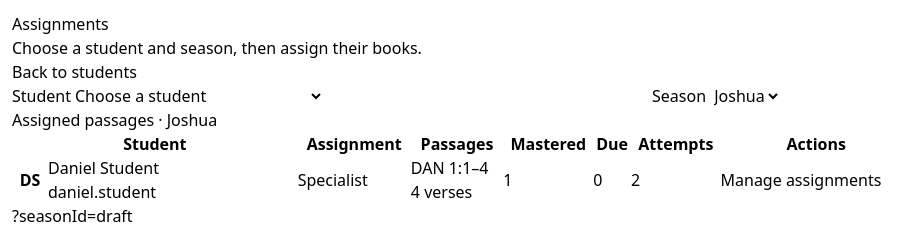
Test: Coach directory pages › honors and retains explicit season selection and deep links assignment management
Expected: the table with test id "coverage-table" shows "Specialist", left=298, top=169, right=368, bottom=191
Select "Daniel" in the dropdown labelled "Season" at coordinates (746, 96), box left=710, top=84, right=781, bottom=108
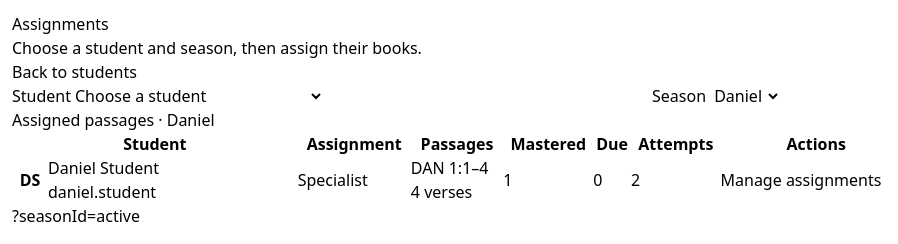
Expected: the text with test id "location" shows "seasonId=active", left=12, top=205, right=140, bottom=227
